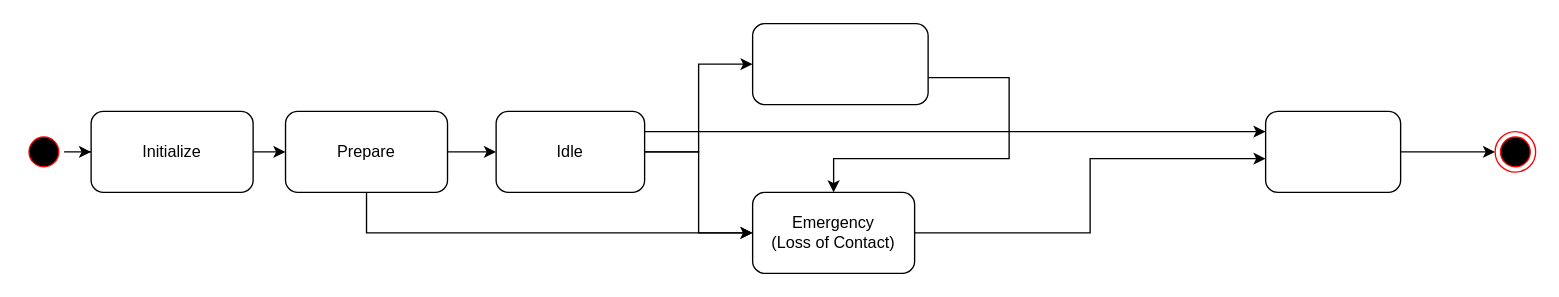
The diagram is 1559 pixels wide and 297 high, and some of its shapes have lost their labels. The centre of each missing label's shape, as x and y in pixels:
Busy (Transmitting/receiving from/to CAN/ethernet): (x=839, y=63)
Shutdown: (x=1332, y=151)
